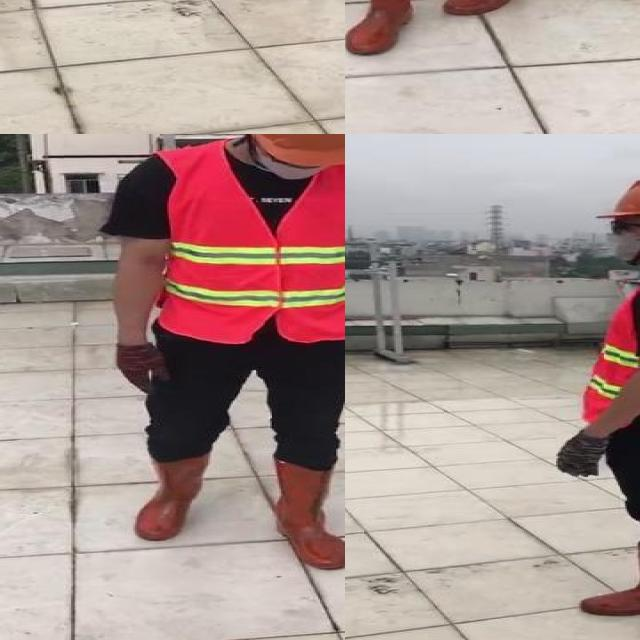boots: (271, 457, 345, 570), (135, 455, 210, 542), (579, 542, 640, 616), (346, 0, 419, 56)
face_mask: (599, 217, 640, 267)
hand_glove: (112, 343, 171, 393), (556, 434, 608, 477)
head_helmet: (238, 134, 345, 171), (606, 173, 640, 224)
person: (96, 134, 345, 583), (546, 169, 640, 614), (345, 0, 587, 62)
vest: (162, 150, 345, 343), (580, 266, 640, 436)
